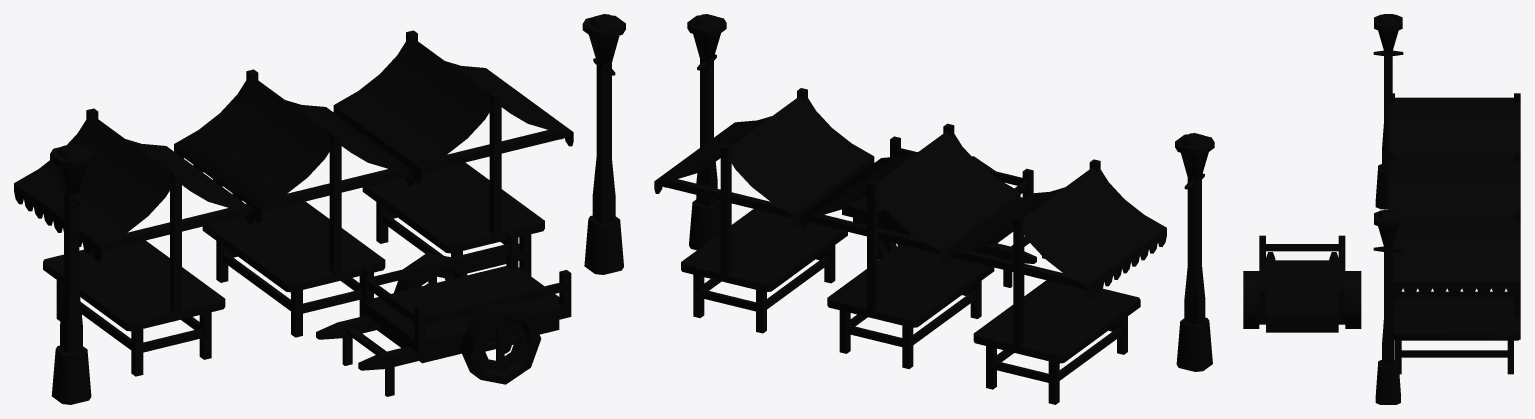
The model's file is market.glb.
3 renders of one model, left to right at view 1: azimuth 30°, elevation 25°; view 2: azimuth 150°, elevation 25°; view 3: azimuth 270°, elevation 25°, orthographic. The views are drawn at different scales.
Visible parts, largest first — view 1: stall-green; view 2: stall-green; view 3: stall-green.
Part boxes in pixels (box(x1,y1,x2,y2)): stall-green: box(14, 14, 625, 404); stall-green: box(654, 14, 1214, 404); stall-green: box(1243, 14, 1520, 404).
Bounding box in the file's own units: 3.72 × 1.56 × 2.1.
1 material, 1 textured.
